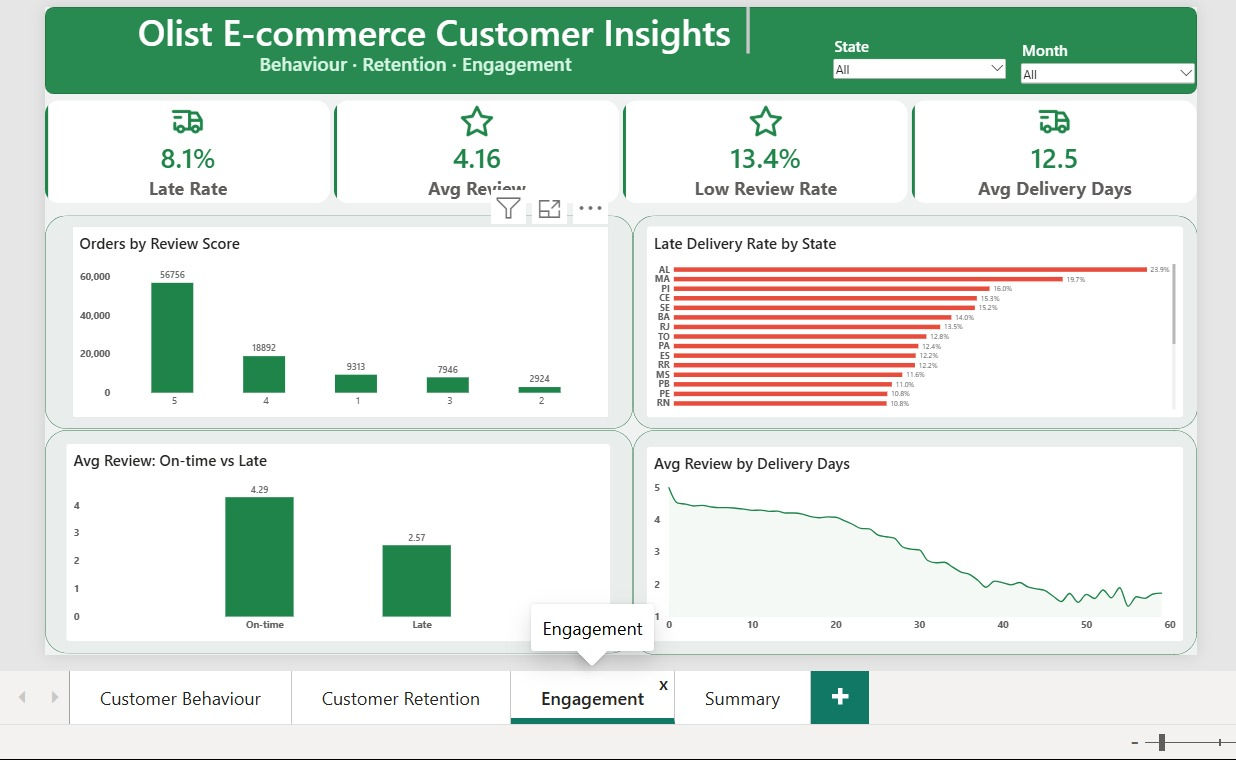

The page's visual inventory and layout, read from the dashboard file:
{"tool":"powerbi","page":{"name":"Engagement","canvas":[2560,1440],"ordinal":2},"visuals":[{"type":"cardVisual","fields":{"Data":["Measures Table.Late Rate","Measures Table.Avg Review","Measures Table.Low Review Rate","Measures Table.Avg Delivery Days"]},"box":[0,206.7,2560,230],"z":0},{"type":"shape","box":[0,0,2560,193.3],"z":1000},{"type":"textbox","box":[206.7,0,1360,113.3],"z":2000},{"type":"textbox","box":[476.7,96.7,713.3,83.3],"z":3000},{"type":"slicer","fields":{"Values":["olist orders_clean.purchase_month"]},"box":[2163.3,73.3,396.7,133.3],"z":4000},{"type":"slicer","fields":{"Values":["olist orders_clean.customer_state"]},"box":[1746.7,63.3,393.3,116.7],"z":5000},{"type":"shape","box":[0,464.5,1306.5,474.2],"z":6000},{"type":"shape","box":[1306.5,464.5,1254.8,474.2],"z":7000},{"type":"shape","box":[0,940,1306.7,496.7],"z":8000},{"type":"shape","box":[1306.7,940,1253.3,500],"z":9000},{"type":"clusteredColumnChart","title":"Avg Review: On-time vs Late","fields":{"Category":["olist orders_clean.Delivery Status"],"Y":["Measures Table.Avg Review"]},"box":[46.7,970,1210,440],"z":10000},{"type":"lineChart","title":" Avg Review by Delivery Days","fields":{"Category":["olist orders_clean.delivery_days"],"Y":["Measures Table.Avg Review"]},"box":[1336.7,976.7,1193.3,433.3],"z":11000},{"type":"barChart","title":"Late Delivery Rate by State","fields":{"Category":["olist orders_clean.customer_state"],"Y":["Measures Table.Late Rate"]},"box":[1335.5,487.1,1193.5,425.8],"z":12000},{"type":"columnChart","title":" Orders by Review Score","fields":{"Category":["olist orders_clean.Review Stars"],"Y":["CountNonNull(olist orders_clean.order_id)"]},"box":[61.3,487.1,1193.5,425.8],"z":13000}]}

Visuals, with their boxes on the page's 2560x1440 design canvas (x1, y1, x2, y2). These are canvas units, not pixel positions in the 1236x760 screenshot, which may show the page scaled, cropped or inside an application window:
cardVisual - Measures Table.Late Rate x Measures Table.Avg Review: left=0, top=207, right=2560, bottom=437
shape: left=0, top=0, right=2560, bottom=193
textbox: left=207, top=0, right=1567, bottom=113
textbox: left=477, top=97, right=1190, bottom=180
slicer - olist orders_clean.purchase_month: left=2163, top=73, right=2560, bottom=207
slicer - olist orders_clean.customer_state: left=1747, top=63, right=2140, bottom=180
shape: left=0, top=464, right=1306, bottom=939
shape: left=1306, top=464, right=2561, bottom=939
shape: left=0, top=940, right=1307, bottom=1437
shape: left=1307, top=940, right=2560, bottom=1440
"Avg Review: On-time vs Late" clusteredColumnChart: left=47, top=970, right=1257, bottom=1410
" Avg Review by Delivery Days" lineChart: left=1337, top=977, right=2530, bottom=1410
"Late Delivery Rate by State" barChart: left=1336, top=487, right=2529, bottom=913
" Orders by Review Score" columnChart: left=61, top=487, right=1255, bottom=913
